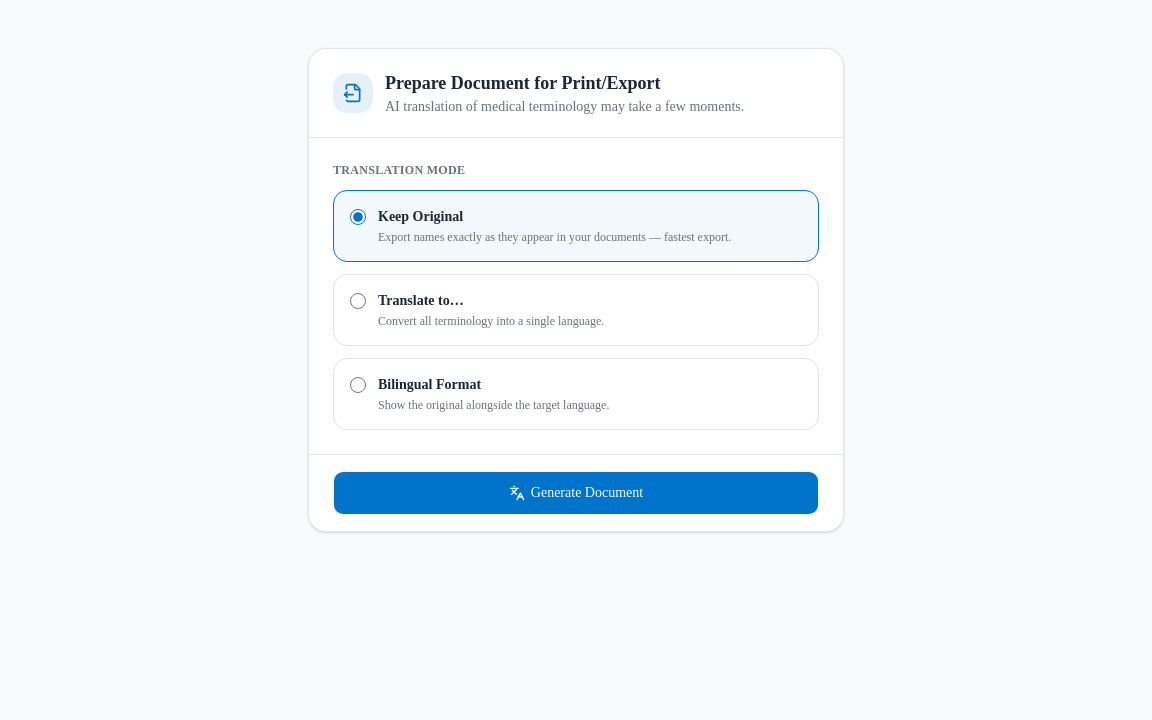
PrintSetup › going back discards the run: nothing is saved or navigated
This screenshot has width=1152, height=720.
Click the 2nd radio button at (358,301), box [350,293,366,309]
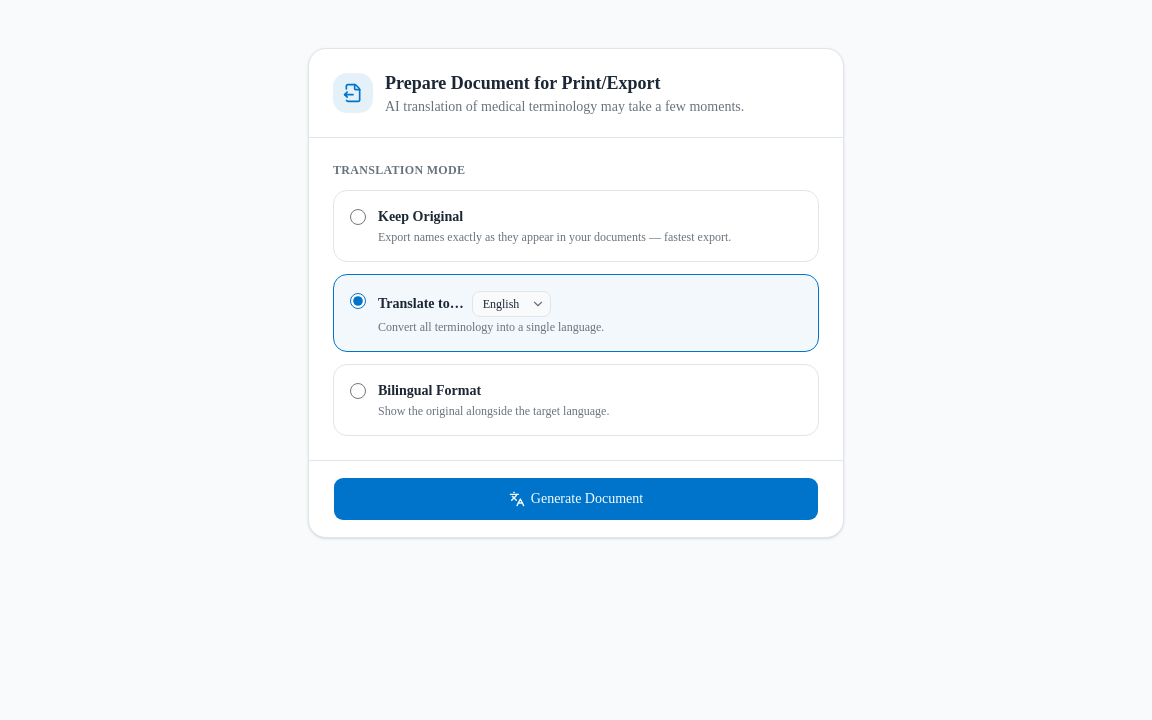
Select "German" in the dropdown at (511,304), box [472,291,551,317]
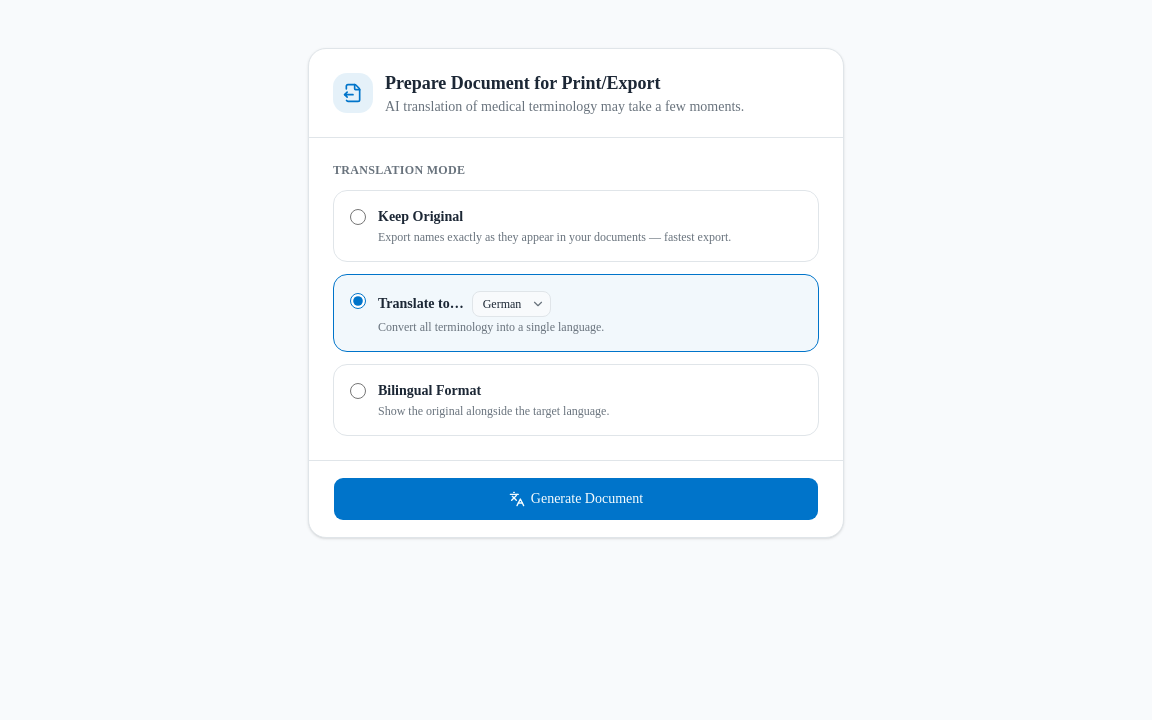
Click the button "Generate Document" at (576,499), box [333,477,819,521]
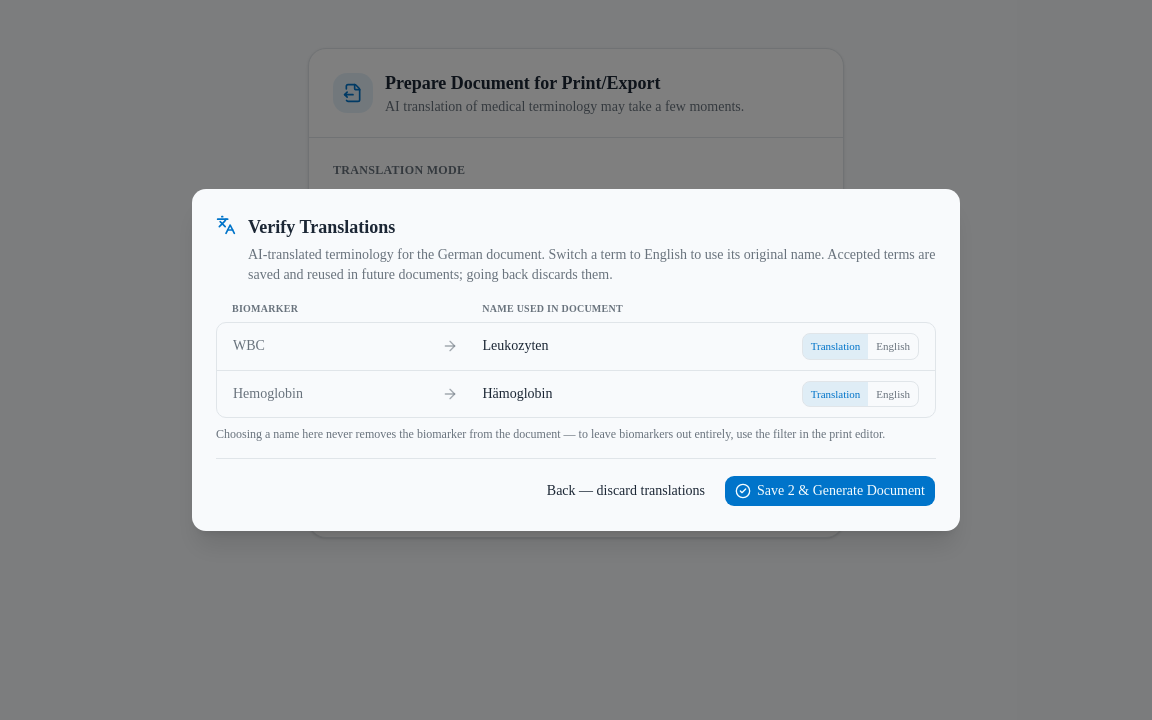
Click the button "Back — discard translations" at (626,491), box [536,475,716,507]
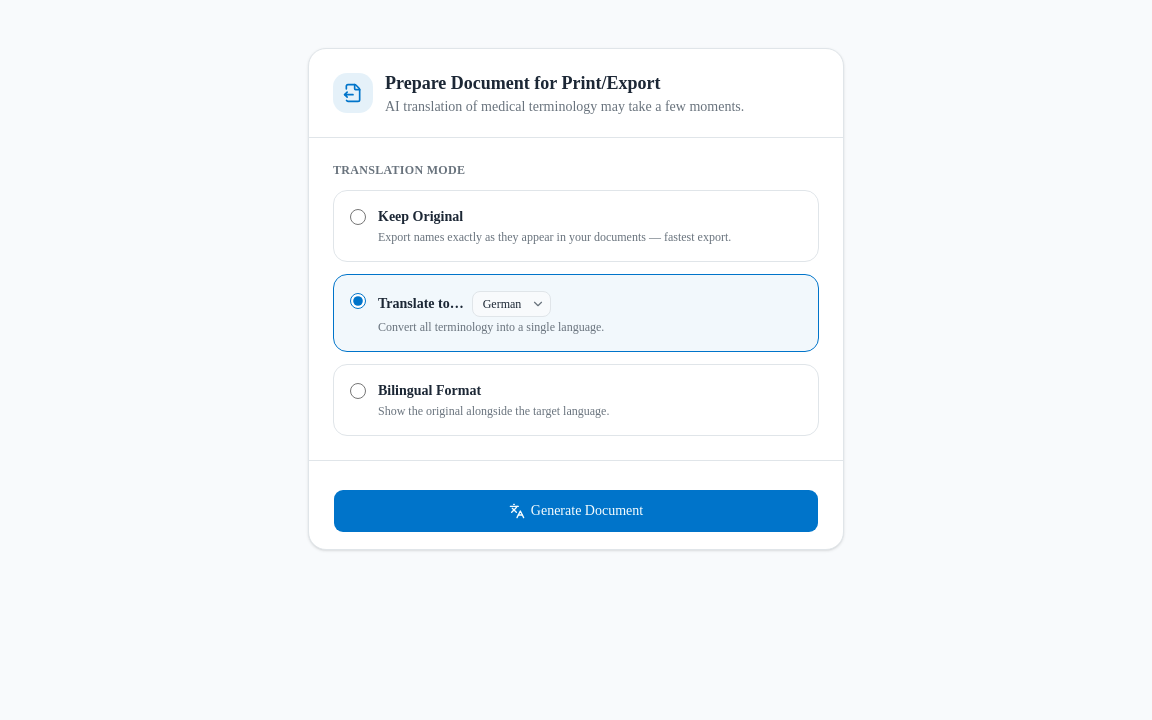
Check: the button "Generate Document" is shown, box [333,489,819,533]
Check: the heading "Verify Translations" is gone
